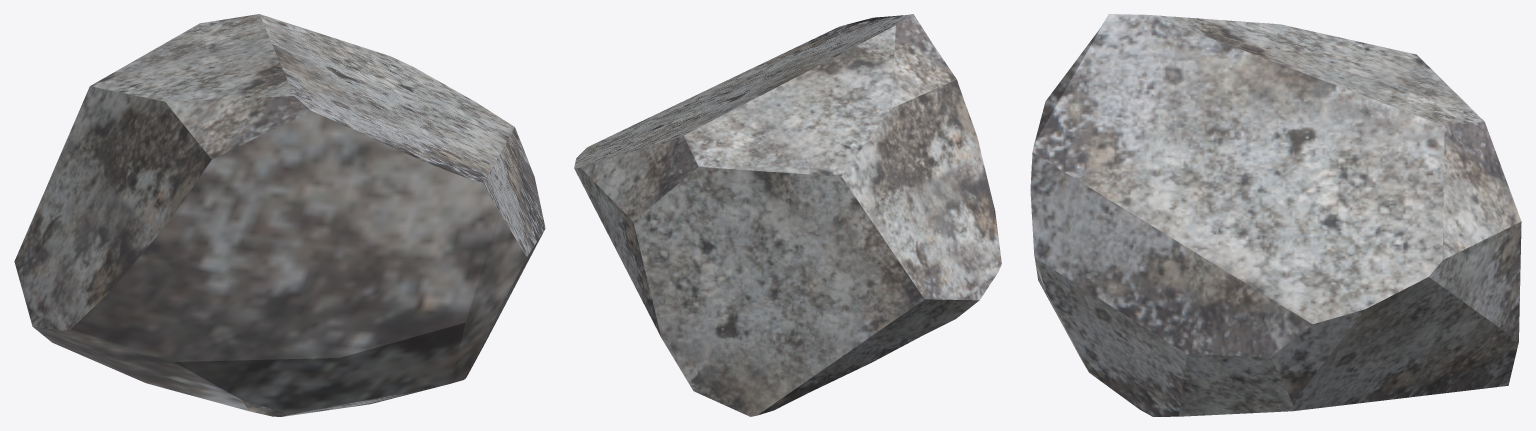
File: Asteroid_Large_001_02_002_03_024.fbx
3 views of the same model, side by side, from view 1: azimuth 30°, elevation 25°; view 2: azimuth 150°, elevation 25°; view 3: azimuth 270°, elevation 25° (orthographic). The views are drawn at different scales.
Parts seen in each view (by area): view 1: Asteroid_Large_001_02_002_03_024; view 2: Asteroid_Large_001_02_002_03_024; view 3: Asteroid_Large_001_02_002_03_024.
Part boxes in pixels (x1,y1,x2,y2): Asteroid_Large_001_02_002_03_024: [14, 14, 545, 416]; Asteroid_Large_001_02_002_03_024: [574, 14, 1001, 416]; Asteroid_Large_001_02_002_03_024: [1030, 14, 1521, 416].
Bounding box in the file's own units: 11.69 × 8.6 × 10.37.
